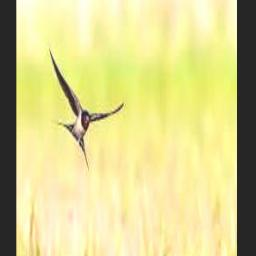Swallow: (50, 49, 125, 165)
